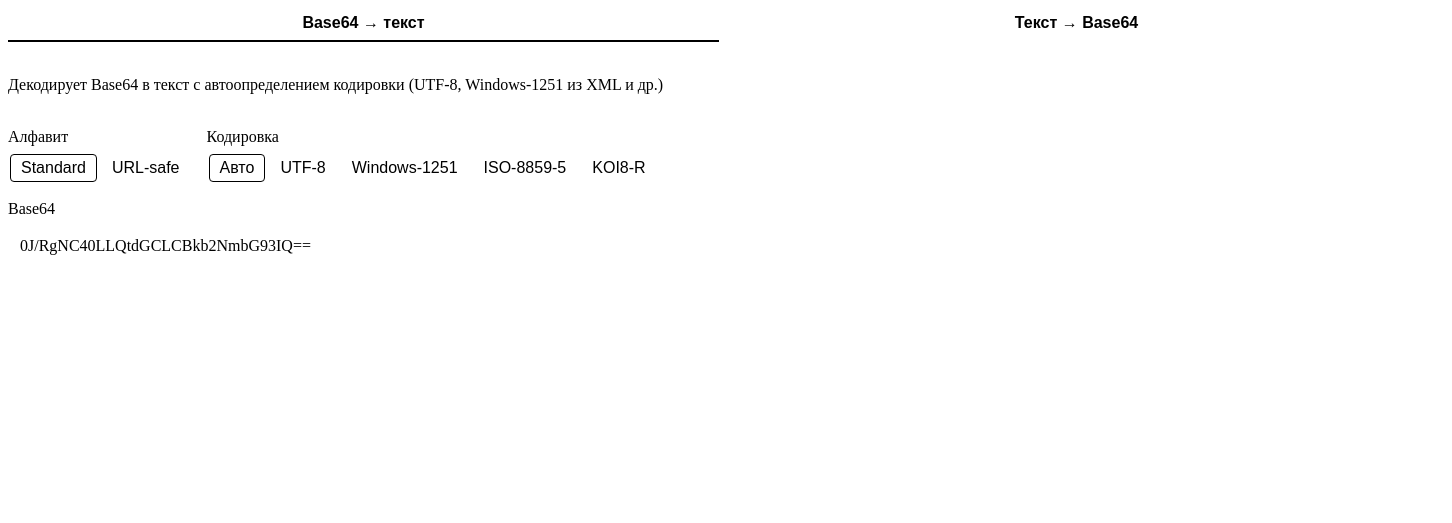
Test: Base64Codec › decode показывает текст для Base64
In the text box named "Base64": (724, 294) x1=8 y1=224 x2=1440 y2=364, type "ZG9jZmxvdw=="
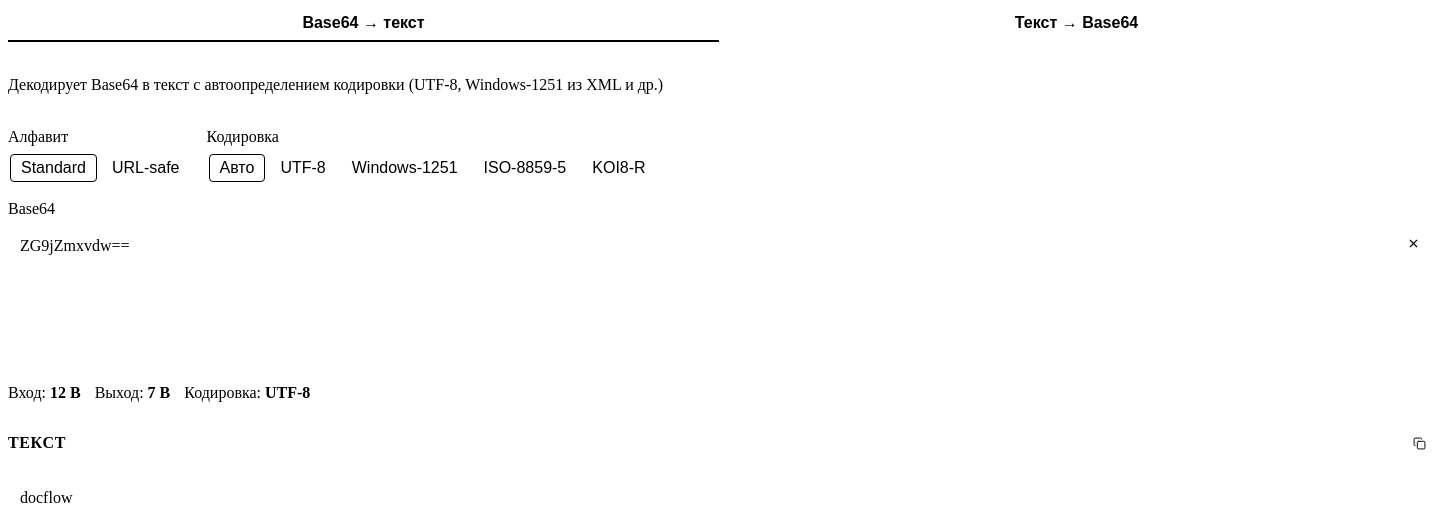
Check: the text named "Результат" reads "docflow", box x1=20 y1=489 x2=72 y2=506
